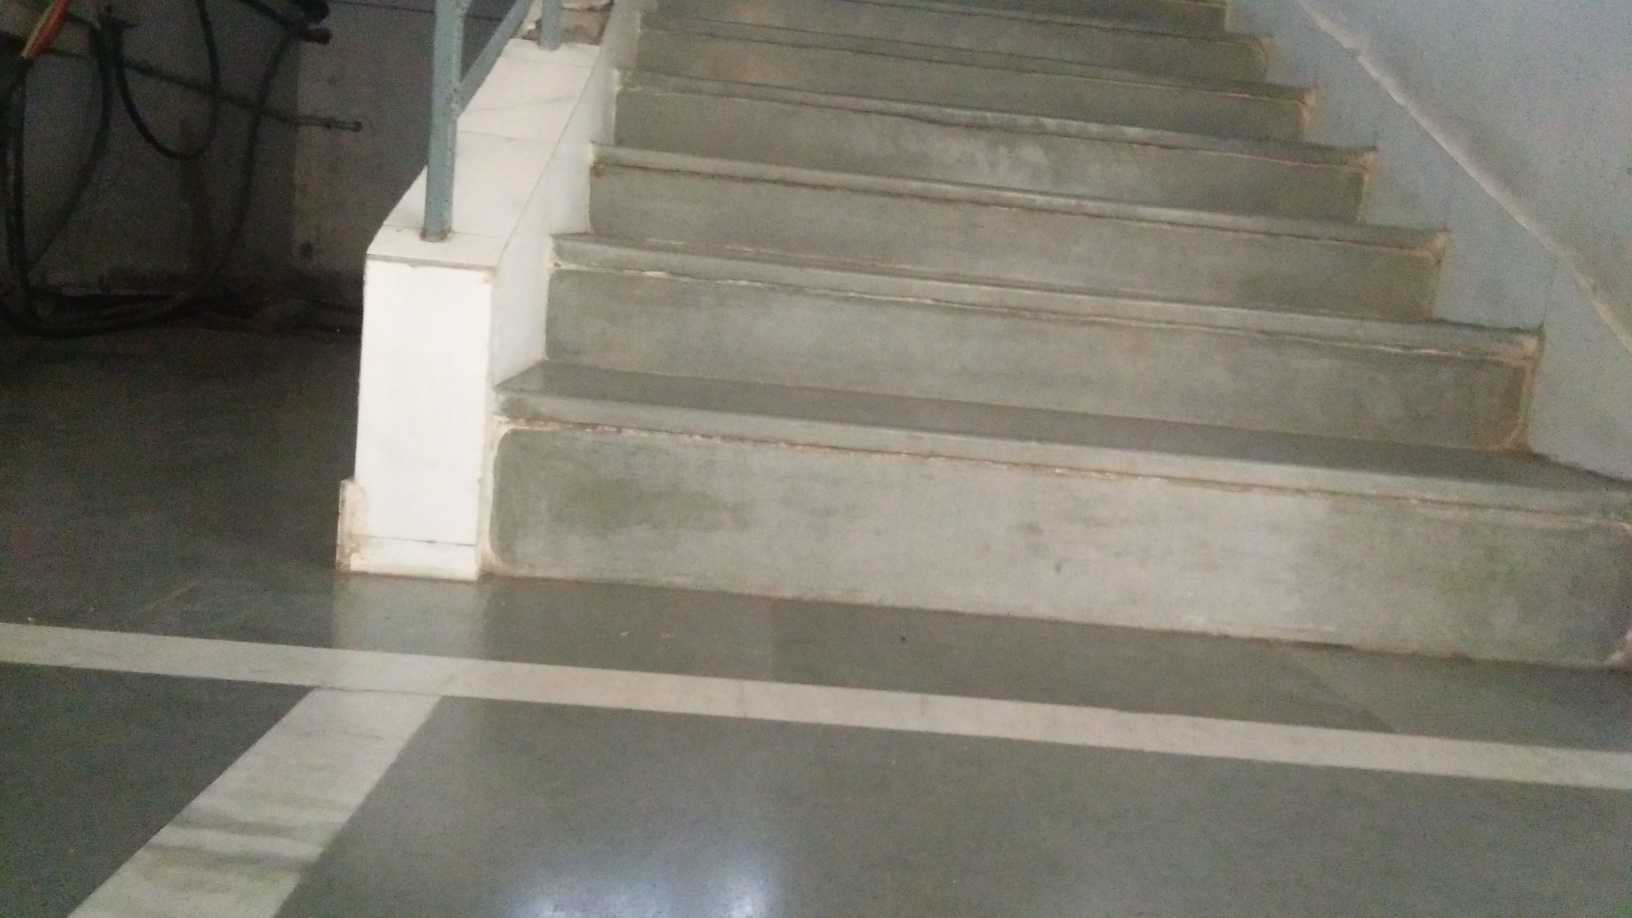stairs_up: (492, 10, 1621, 685)
